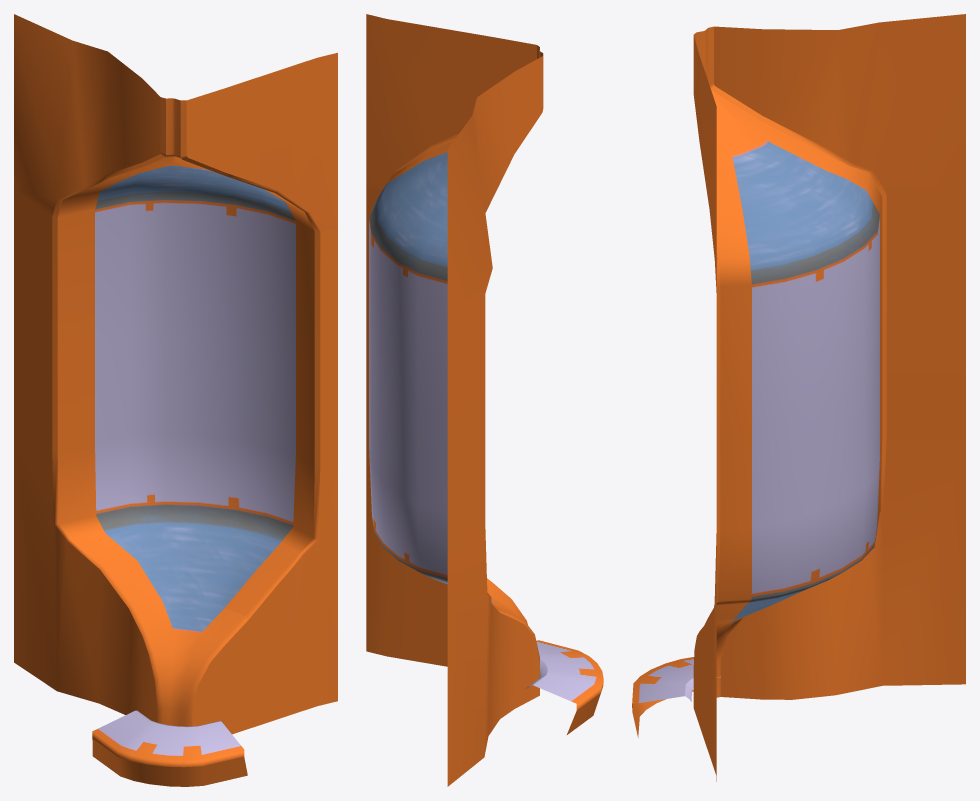
Rendered from wall_corner_R.fbx.
The picture shows the model from 3 angles, left to right: view 1: azimuth 30°, elevation 25°; view 2: azimuth 150°, elevation 25°; view 3: azimuth 270°, elevation 25°; orthographic projection. The views are drawn at different scales.
Parts seen in each view (by area): view 1: wall_corner_R; view 2: wall_corner_R; view 3: wall_corner_R.
Boxes of the visible parts, bbox=[...] form: wall_corner_R: bbox=[14, 14, 337, 786]; wall_corner_R: bbox=[366, 14, 603, 786]; wall_corner_R: bbox=[632, 14, 965, 781].
Size of the model in its own units: 165 by 456 by 201.
